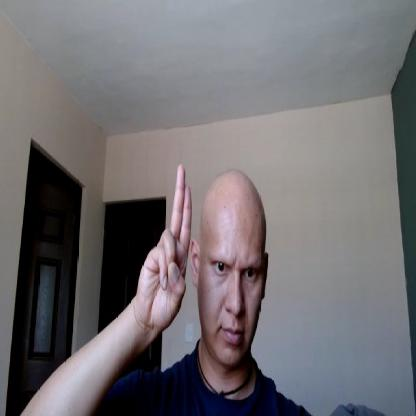U: (140, 163, 192, 325)
